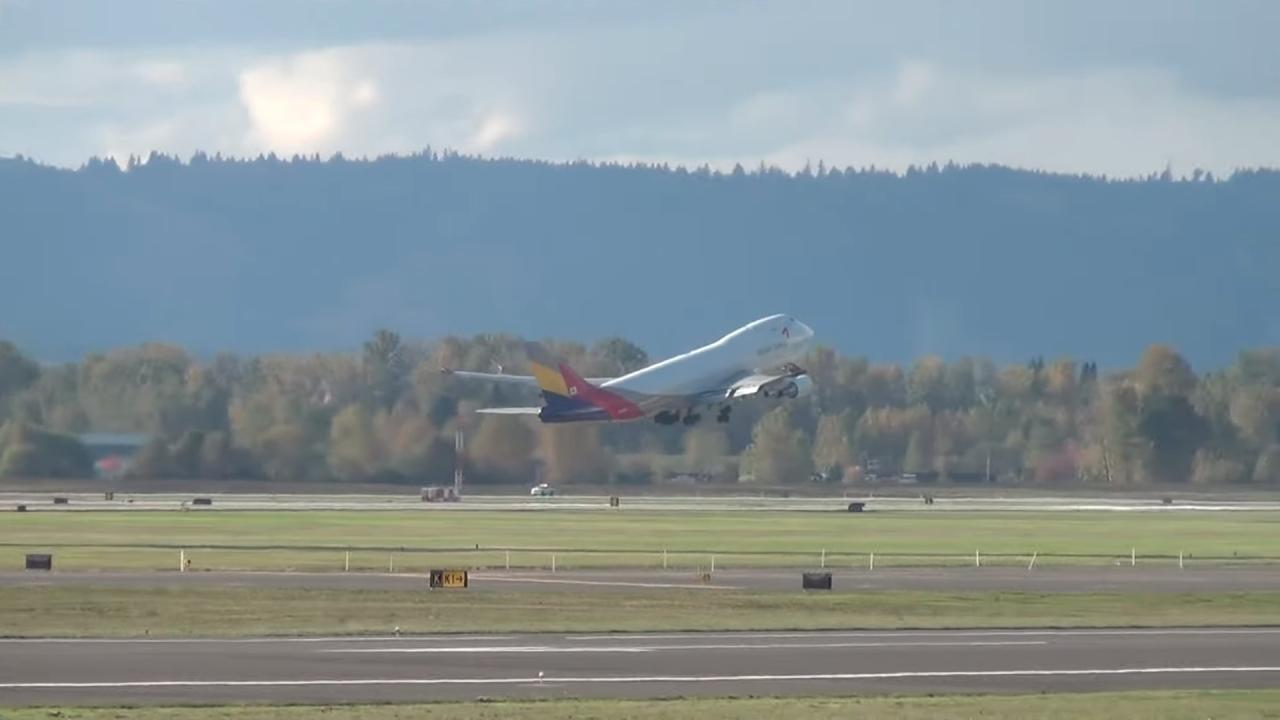Airplane: (436, 294, 834, 443)
